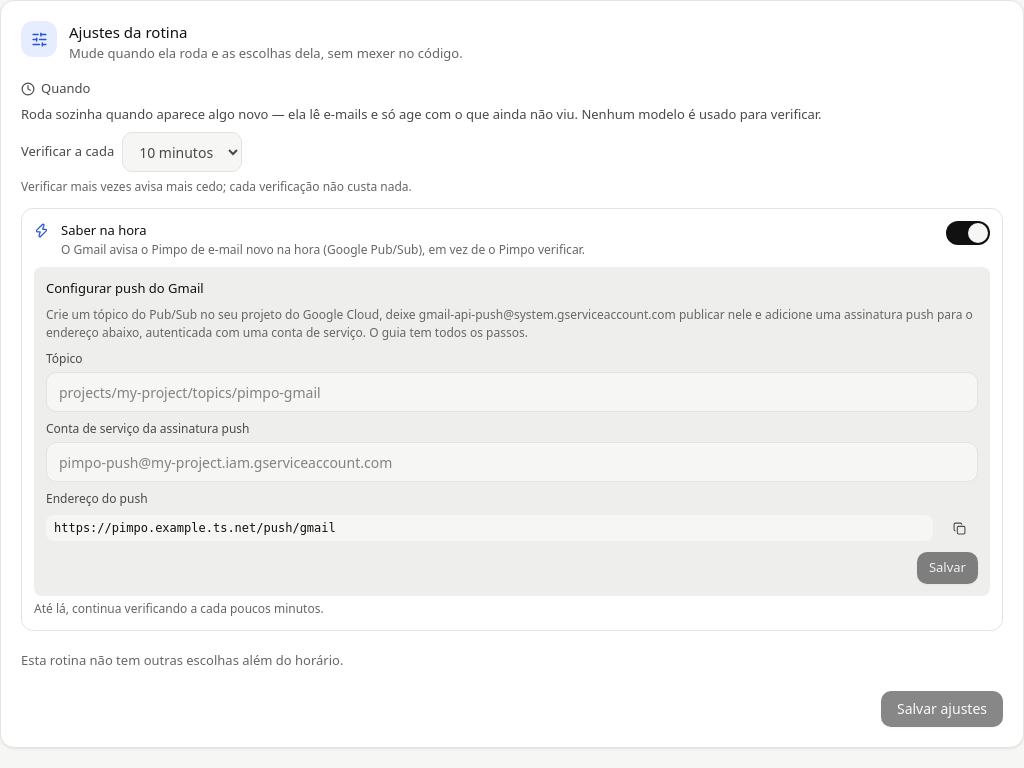
it: push triggers › lets the administrator set up Gmail push once
Check: the element "Configurar push do Gmail" shows "https://pimpo.example.ts.net/push/gmail", box left=54, top=521, right=336, bottom=535
Check: the text "Até lá, continua verificando a cada poucos minutos." is shown, box left=34, top=600, right=324, bottom=617
Type "projects/casa-123/topics/gmail" into the field labelled "Tópico".
click(512, 392); type("projects/casa-123/topics/gmail")  # box left=46, top=372, right=978, bottom=412
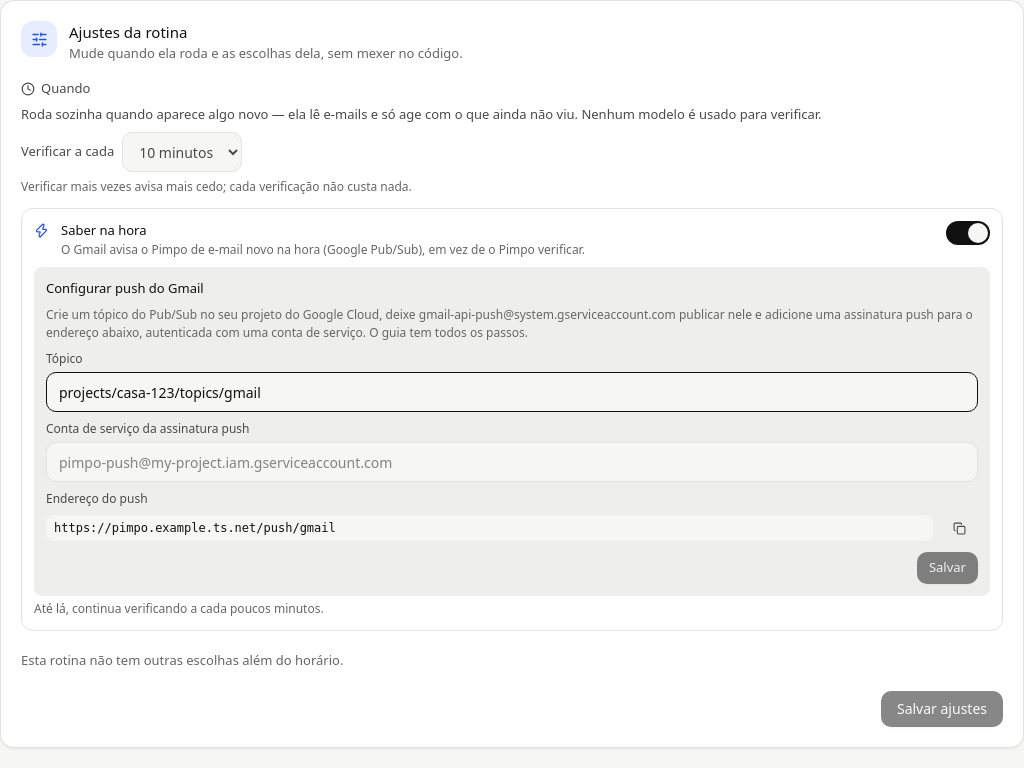
Type "push@casa-123.iam.gserviceaccount.com" into the field labelled "Conta de serviço da assinatura push".
click(512, 462); type("push@casa-123.iam.gserviceaccount.com")  # box left=46, top=442, right=978, bottom=482
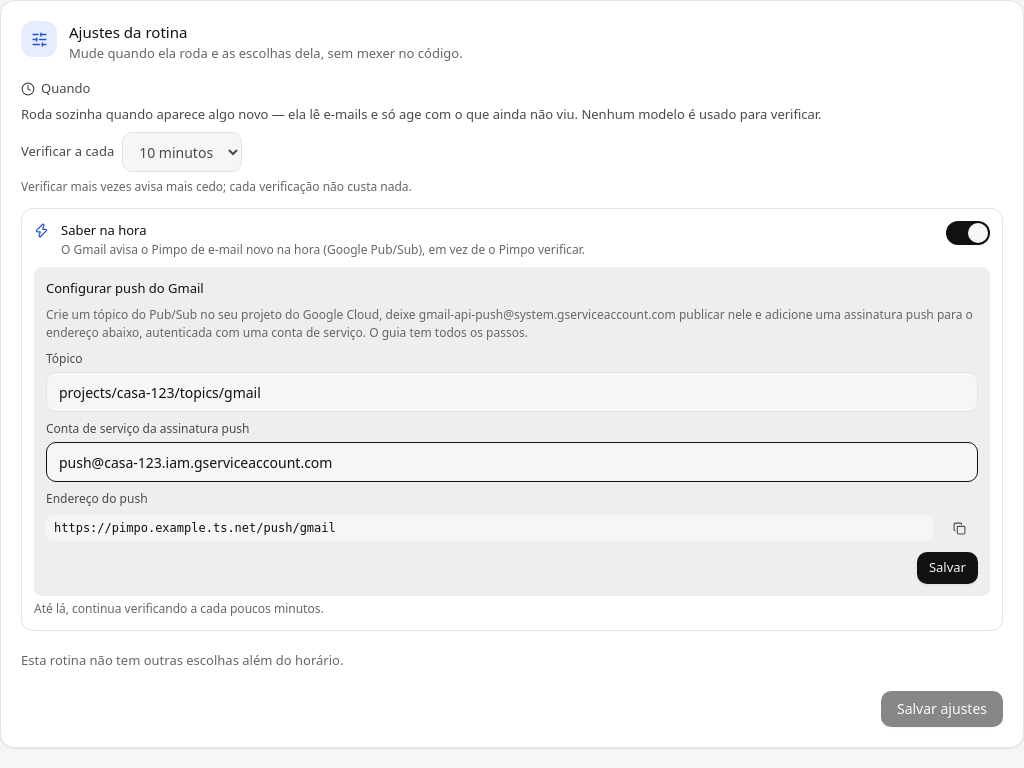
Click the button "Salvar".
click(947, 568)  # box left=917, top=552, right=978, bottom=584
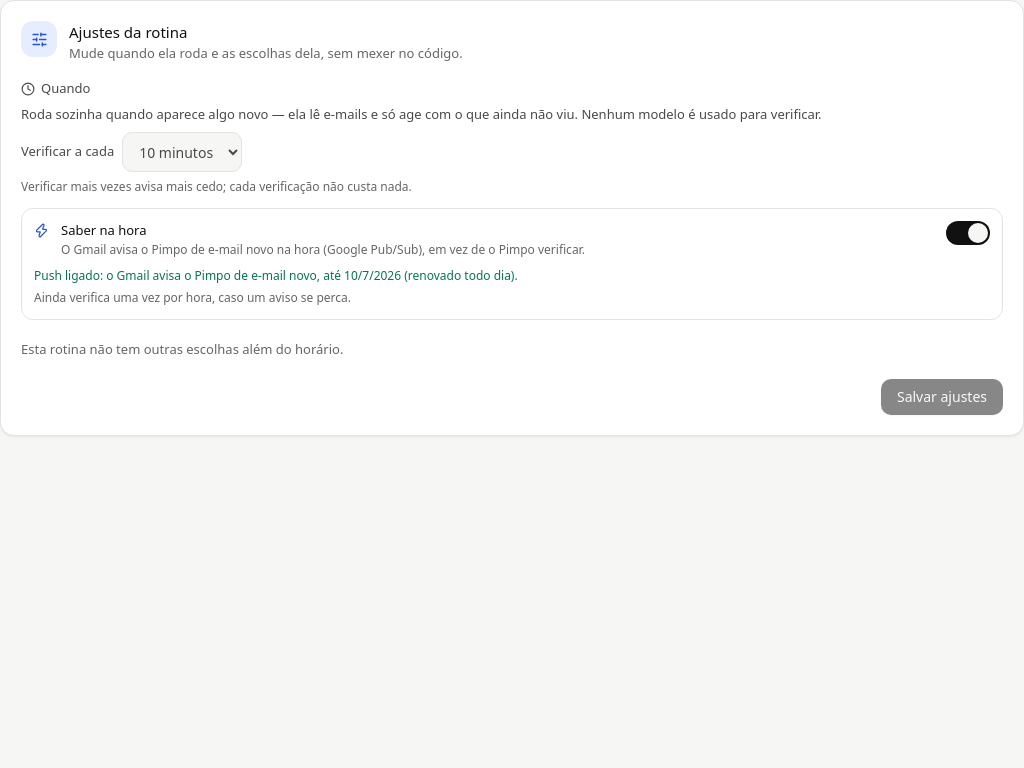
Check: the text "Push ligado" is shown, box left=34, top=266, right=518, bottom=284
